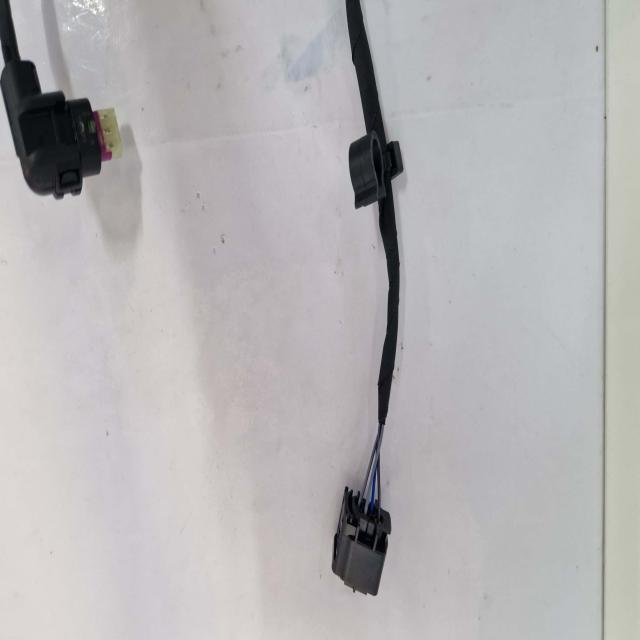Clip: (349, 127, 409, 206)
Connector: (7, 27, 126, 199), (329, 486, 394, 598)
Gape: (357, 417, 387, 514)
MHEV_N11_Cable: (347, 4, 408, 427)
